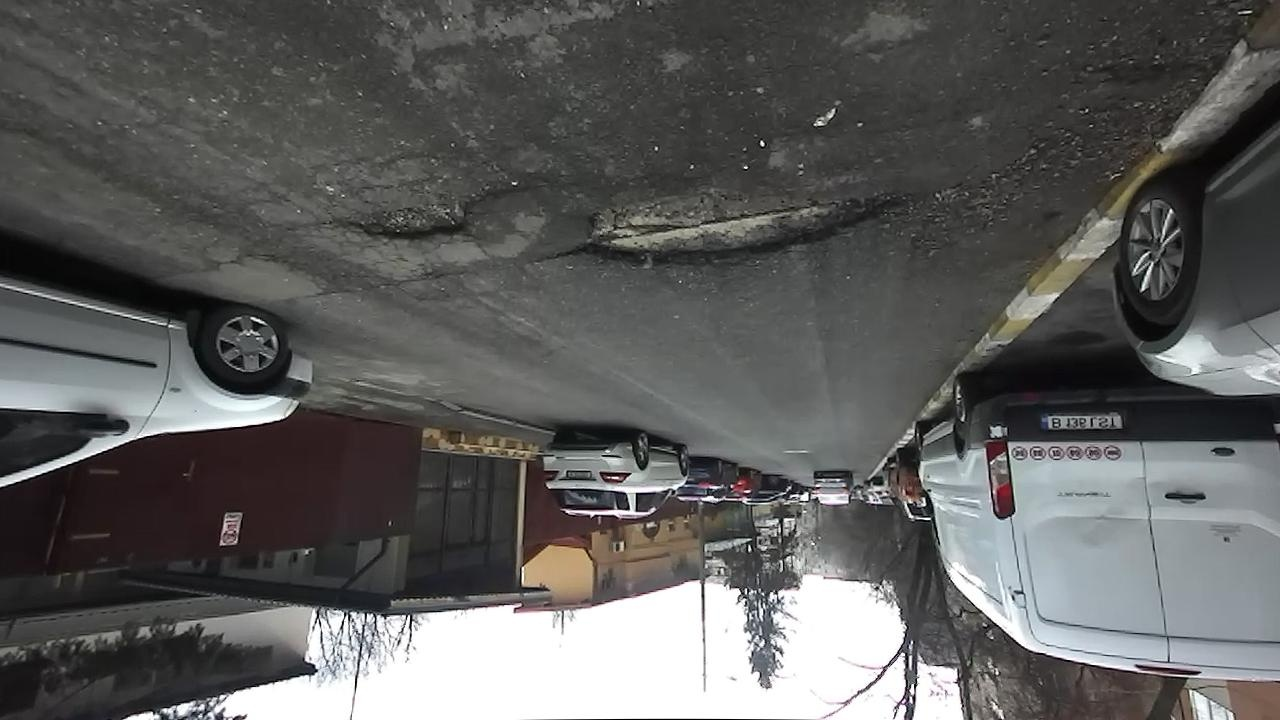pothole: (563, 166, 920, 275), (337, 184, 513, 247)
